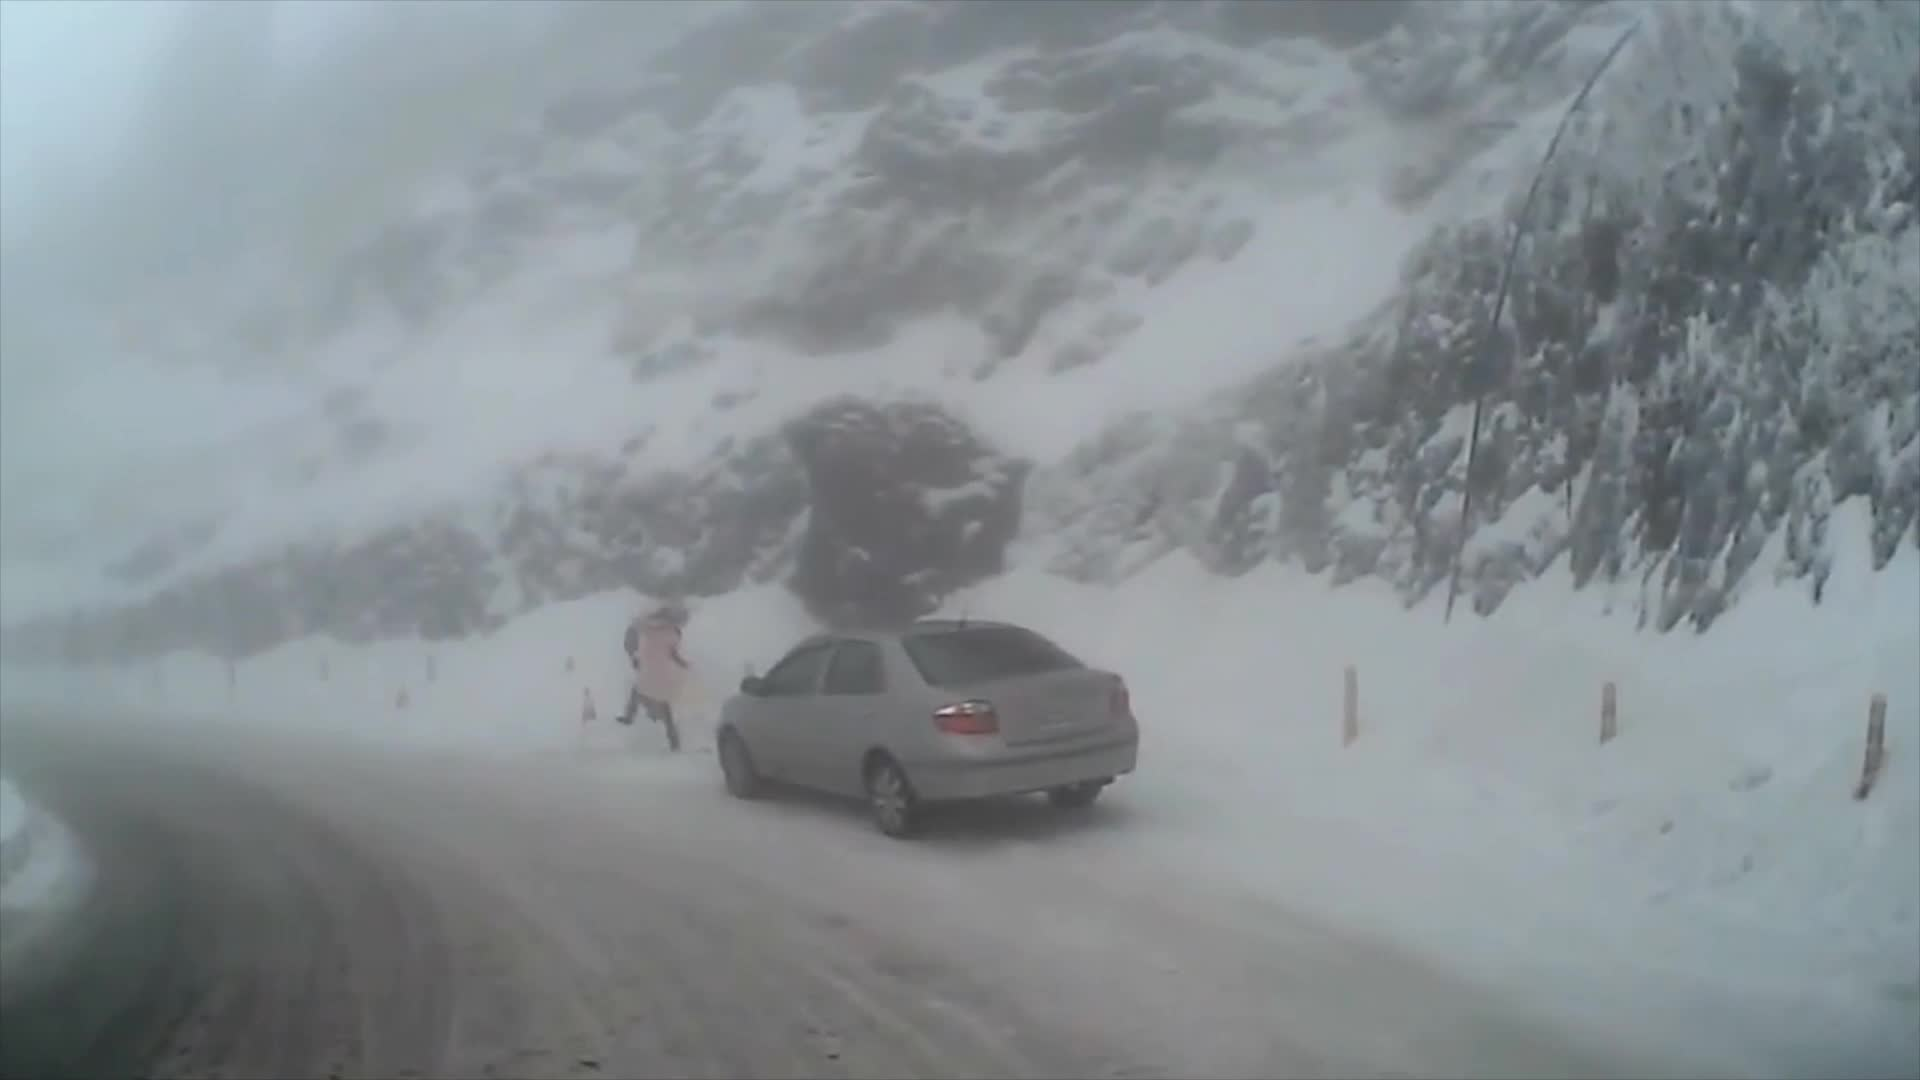pedestrian: (614, 601, 690, 750)
vehicle: (710, 619, 1137, 842)
